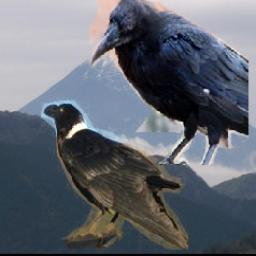Crow: (89, 0, 248, 166), (42, 97, 189, 250)
